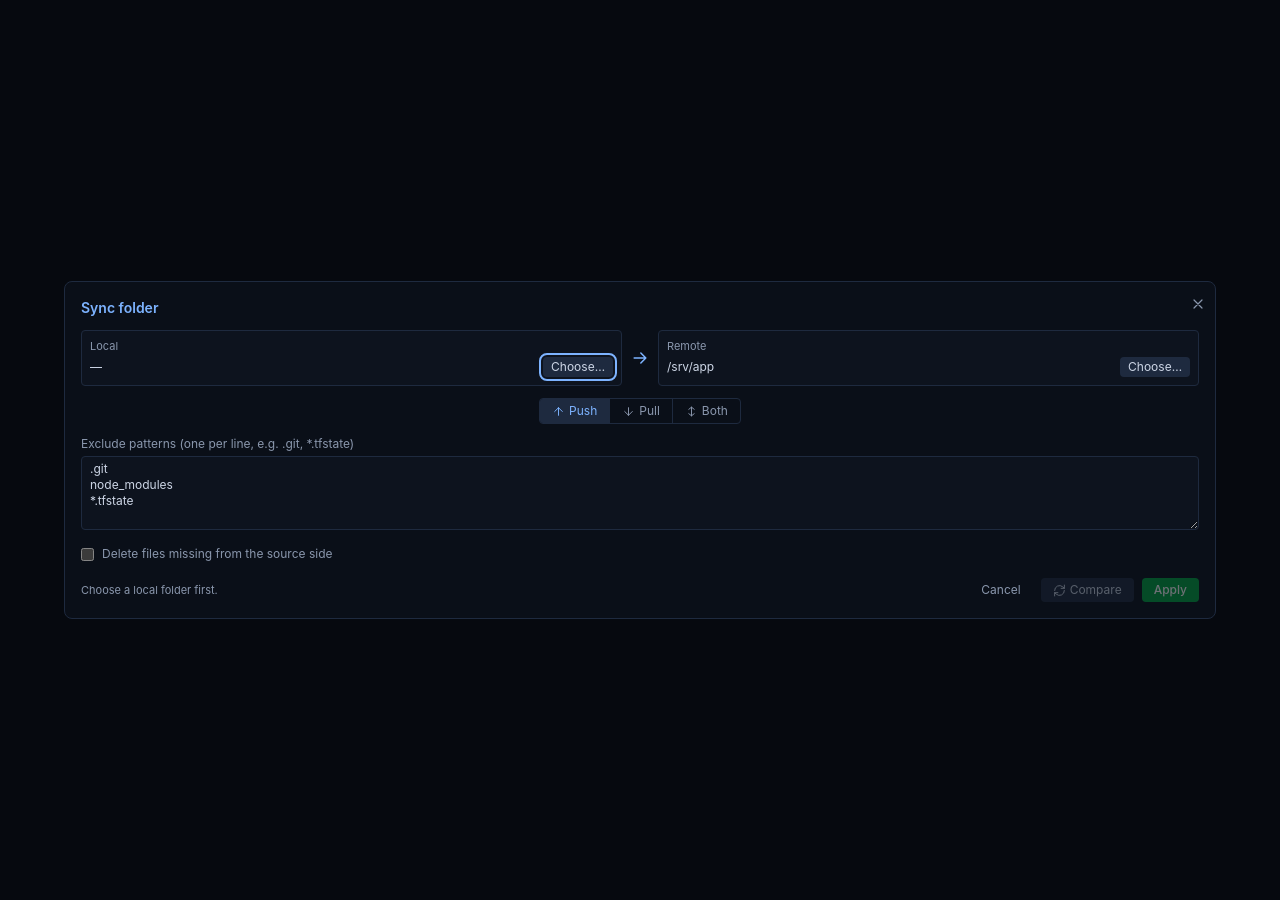
SyncModal › shows per-row progress while a run is in flight
The width and height of the screenshot is (1280, 900).
Click the button with aria-label "Choose local folder" at (578, 367), box left=543, top=357, right=613, bottom=377
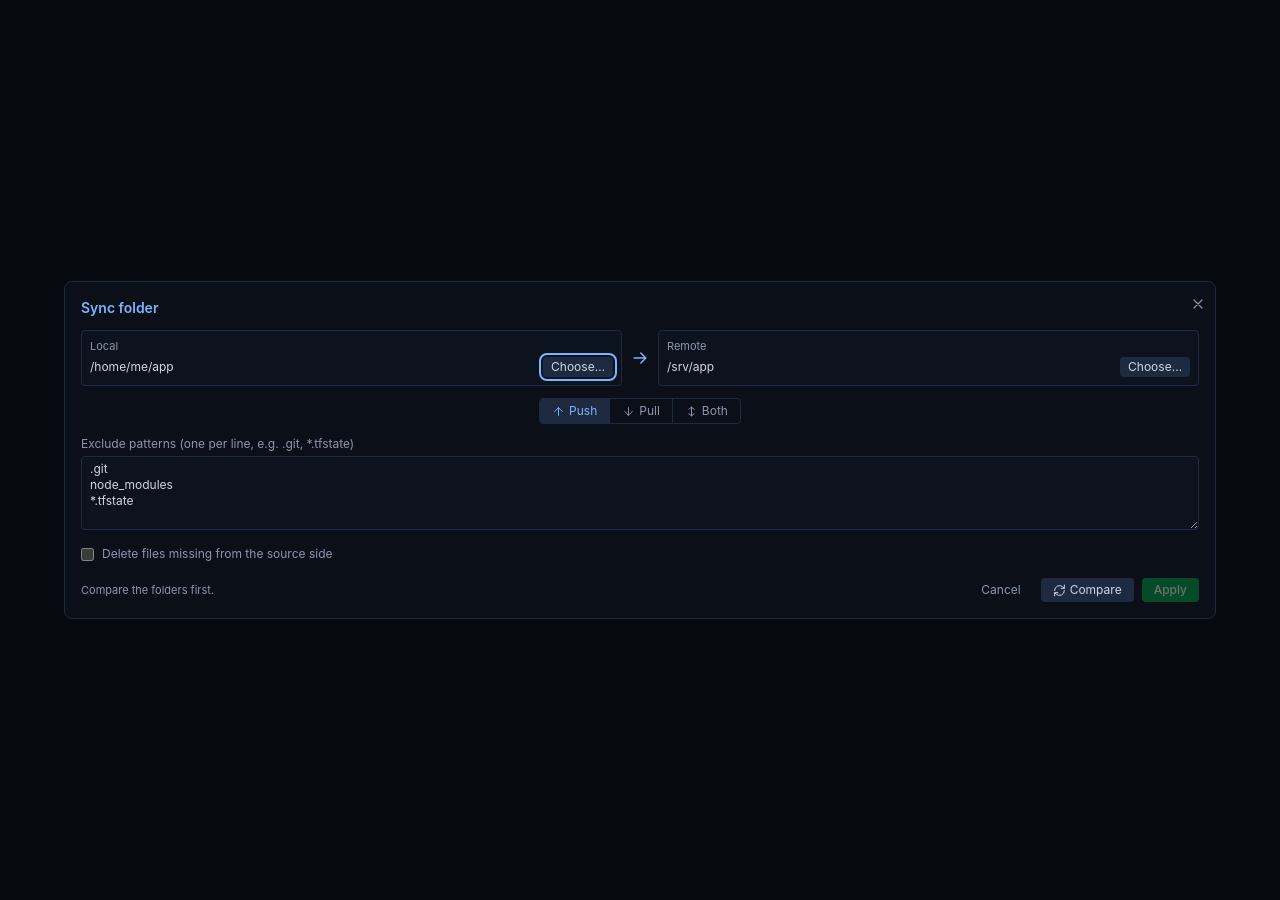
Click the button "Compare" at (1087, 590), box left=1041, top=578, right=1134, bottom=602
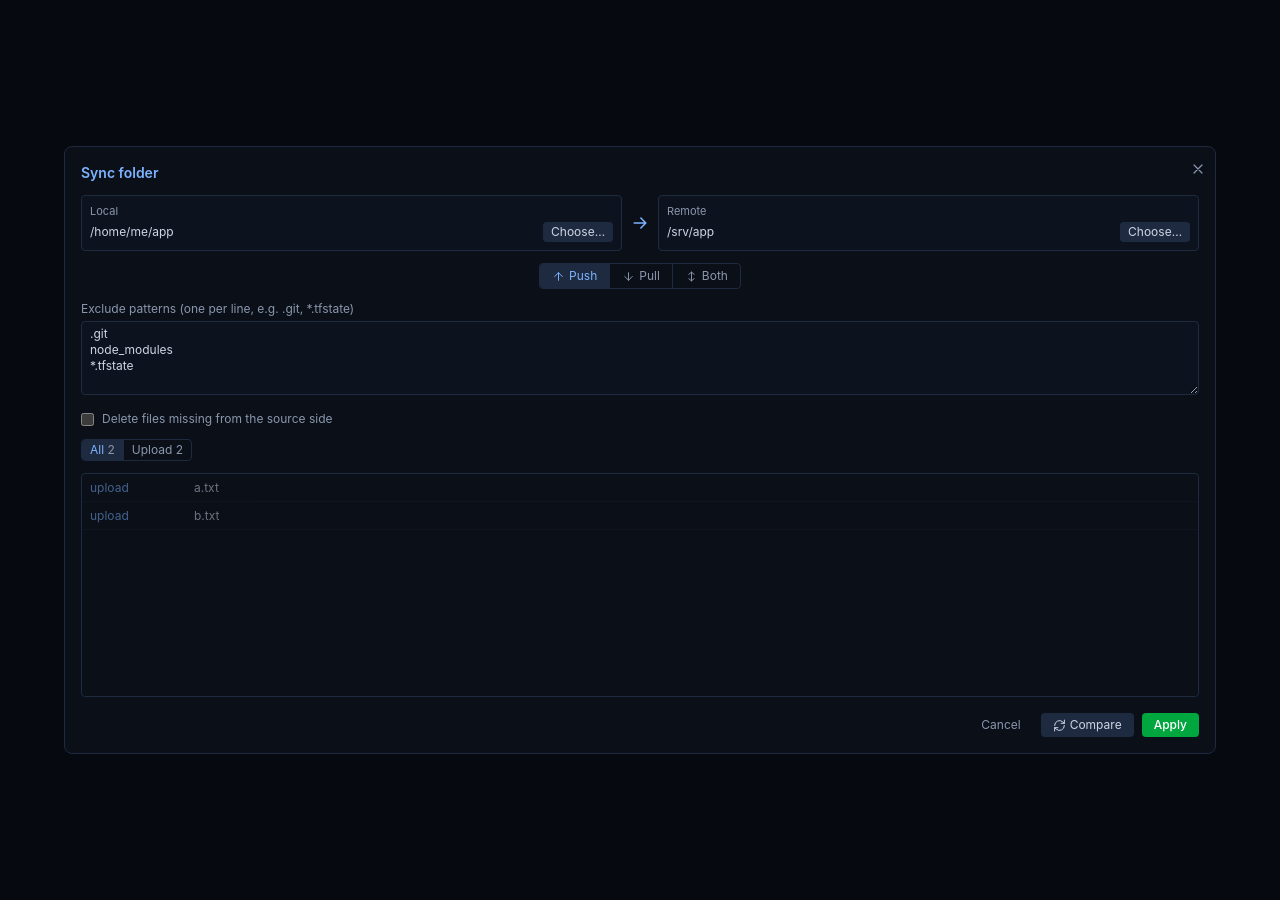
Now the text titled "a.txt" is shown, box left=194, top=480, right=219, bottom=495
Click the button "Apply" at (1170, 725), box left=1142, top=713, right=1199, bottom=737
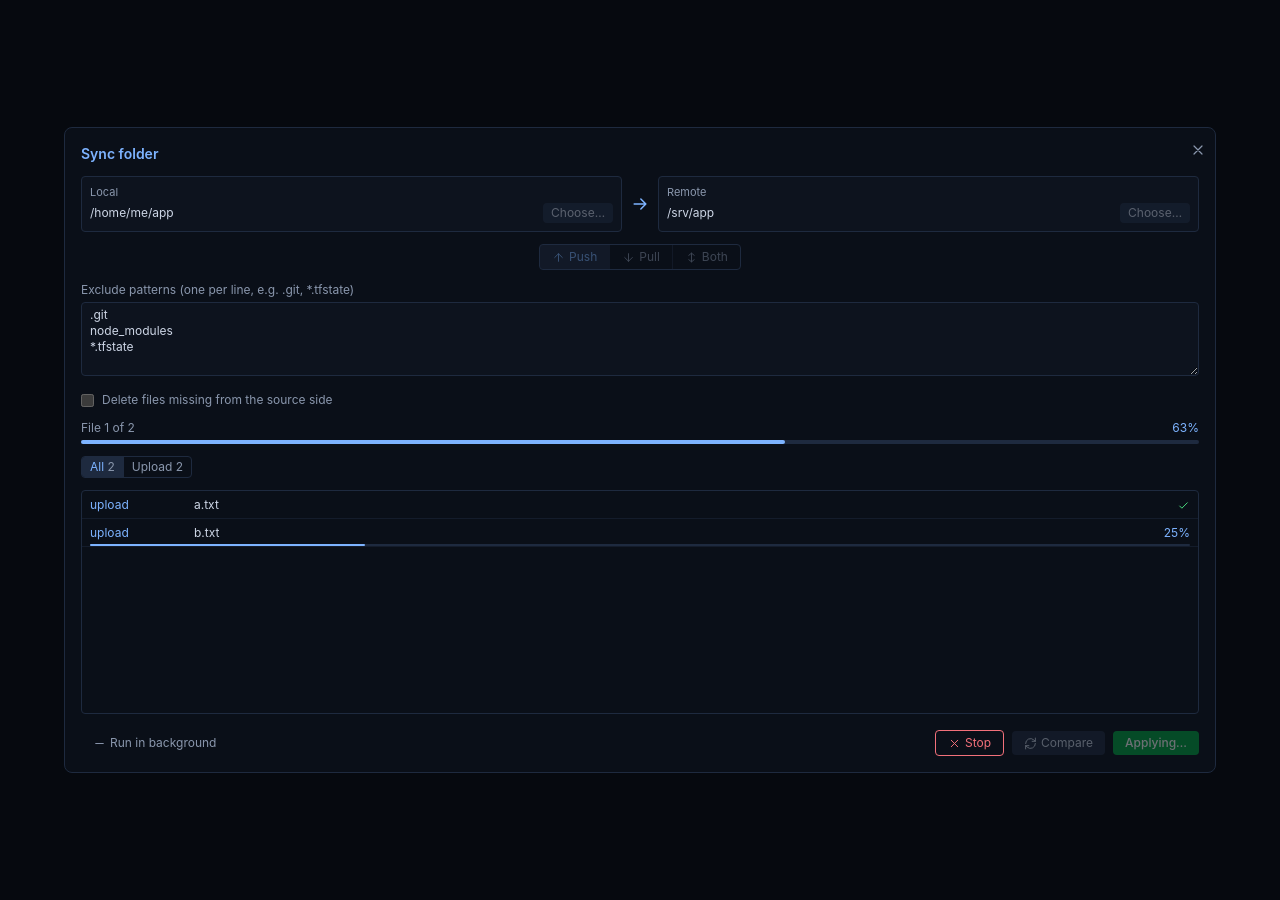
Now the element named "done" is shown, box left=1177, top=497, right=1190, bottom=513
Now the text "25%" is shown, box left=1164, top=525, right=1190, bottom=541
Now the text "File 1 of 2" is shown, box left=81, top=420, right=135, bottom=436
